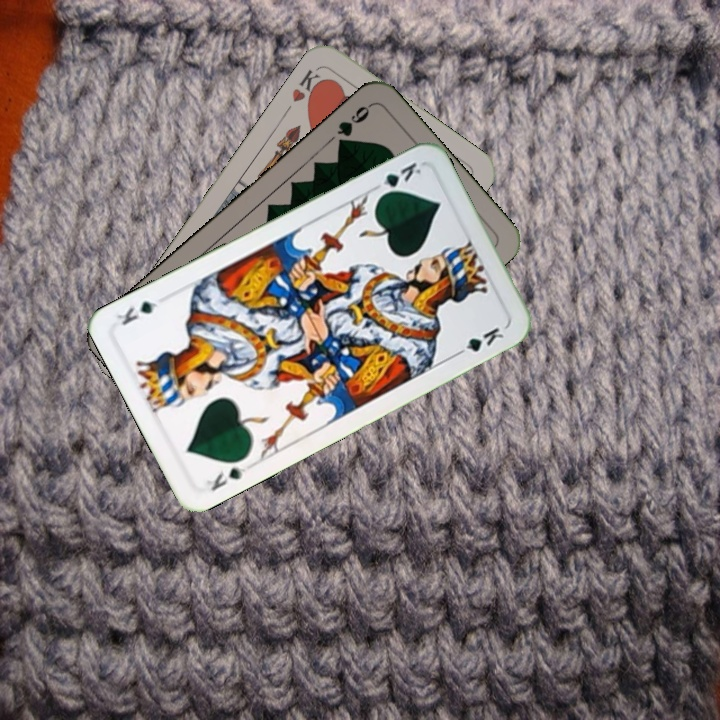G9: (333, 100, 374, 151)
GK: (369, 158, 424, 200), (202, 462, 249, 494)
HK: (288, 65, 328, 108)
